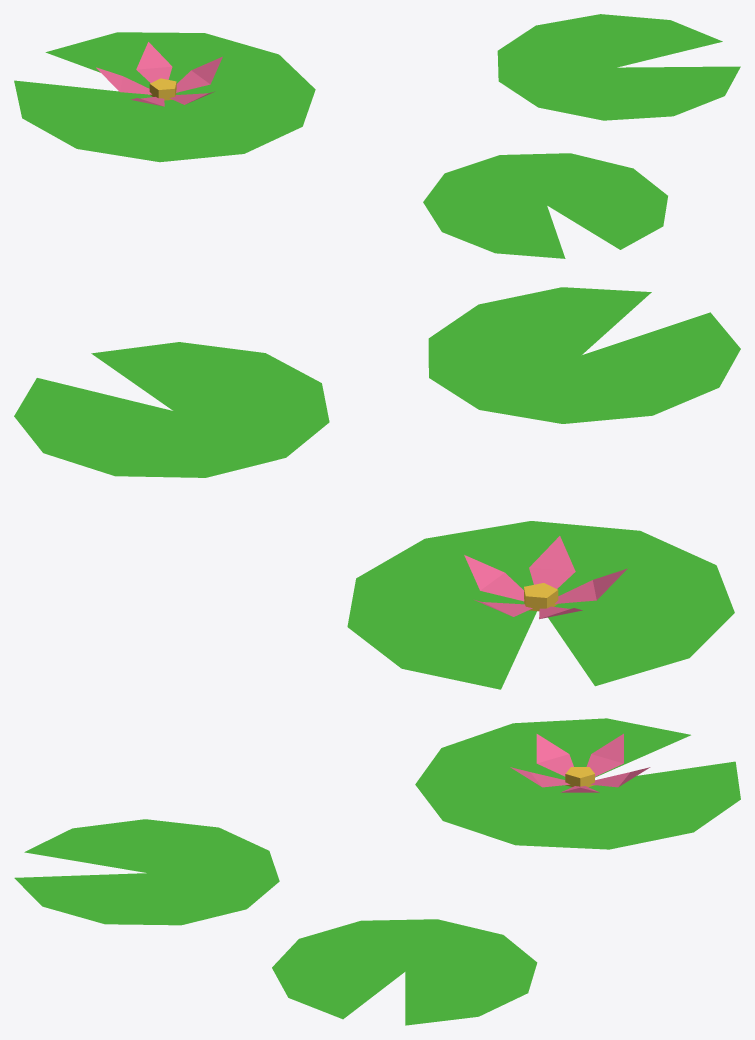
File: lily_pad_set_b.fbx
The picture shows the model from 3 angles, top to bottom: view 1: azimuth 30°, elevation 25°; view 2: azimuth 150°, elevation 25°; view 3: azimuth 270°, elevation 25°; orthographic projection. The views are drawn at different scales.
Visible parts, largest first — view 1: lily_pad_set_b; view 2: lily_pad_set_b; view 3: lily_pad_set_b.
Part boxes in pixels (left/top/right/bottom): lily_pad_set_b: left=14, top=14, right=740, bottom=258; lily_pad_set_b: left=14, top=287, right=740, bottom=689; lily_pad_set_b: left=14, top=718, right=740, bottom=1025.
Bounding box in the file's own units: 2.5 × 0.1 × 2.5.
